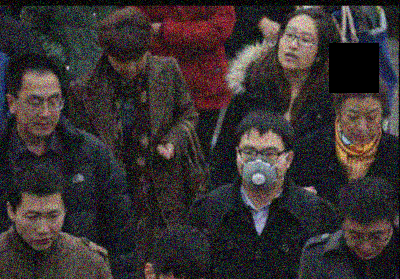with_mask: (235, 141, 286, 191)
without_mask: (16, 203, 64, 250), (16, 87, 62, 136), (276, 22, 318, 73), (340, 222, 394, 261), (338, 103, 381, 144), (111, 52, 146, 78)
